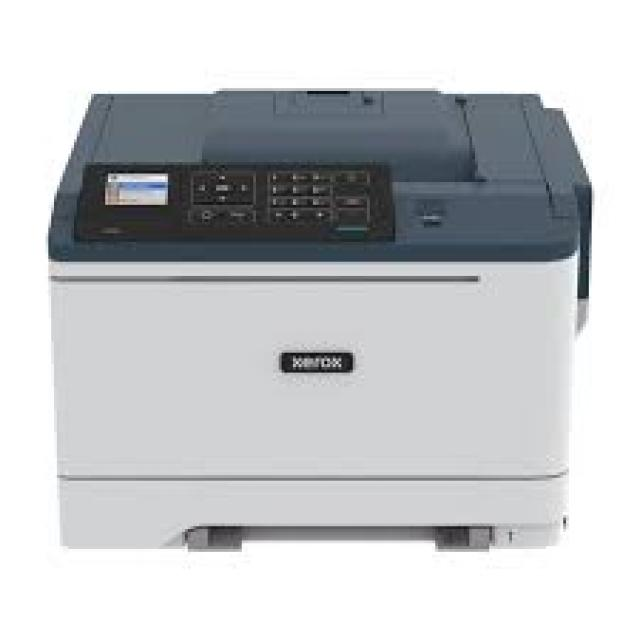printer: (23, 42, 630, 586)
